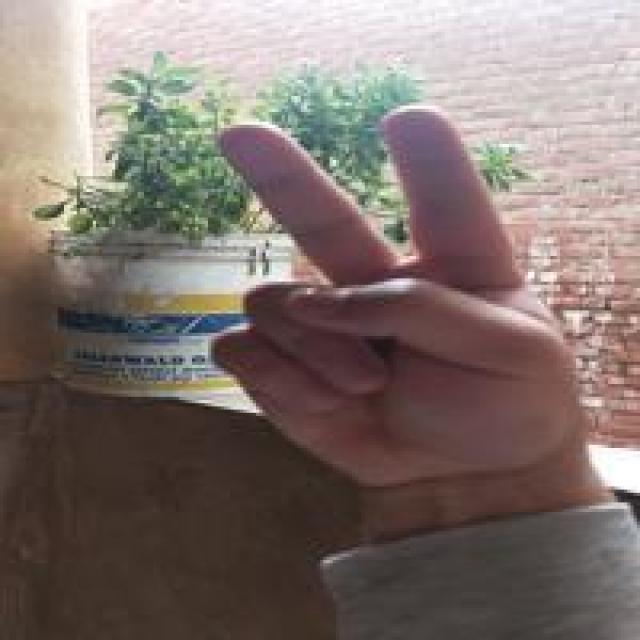V: (203, 101, 584, 491)
